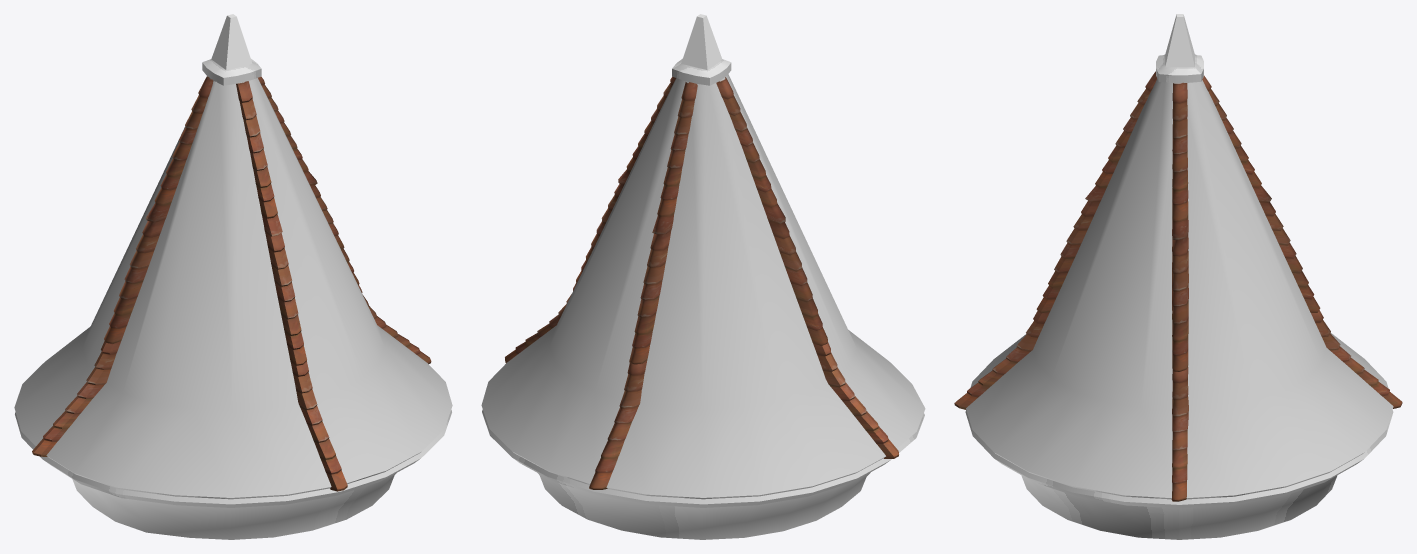
The model's file is SM_AlchemyS_Tower_Roof_B.fbx.
The picture shows the model from 3 angles, left to right: view 1: azimuth 30°, elevation 25°; view 2: azimuth 150°, elevation 25°; view 3: azimuth 270°, elevation 25°; orthographic projection.
Visible parts, largest first — view 1: SM_AlchemyS_Tower_Roof_B_LOD0; view 2: SM_AlchemyS_Tower_Roof_B_LOD0; view 3: SM_AlchemyS_Tower_Roof_B_LOD0.
Part boxes in pixels (left/top/right/bottom): SM_AlchemyS_Tower_Roof_B_LOD0: left=14, top=14, right=452, bottom=539; SM_AlchemyS_Tower_Roof_B_LOD0: left=481, top=14, right=925, bottom=539; SM_AlchemyS_Tower_Roof_B_LOD0: left=954, top=14, right=1402, bottom=539.
Size of what is drawn, in the model's own units: 10.07 by 11.18 by 9.91.
